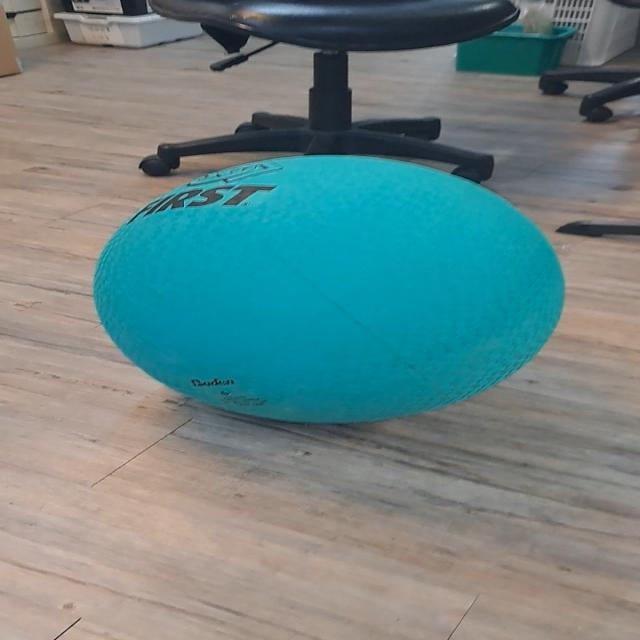ALGAE: (90, 152, 566, 426)
